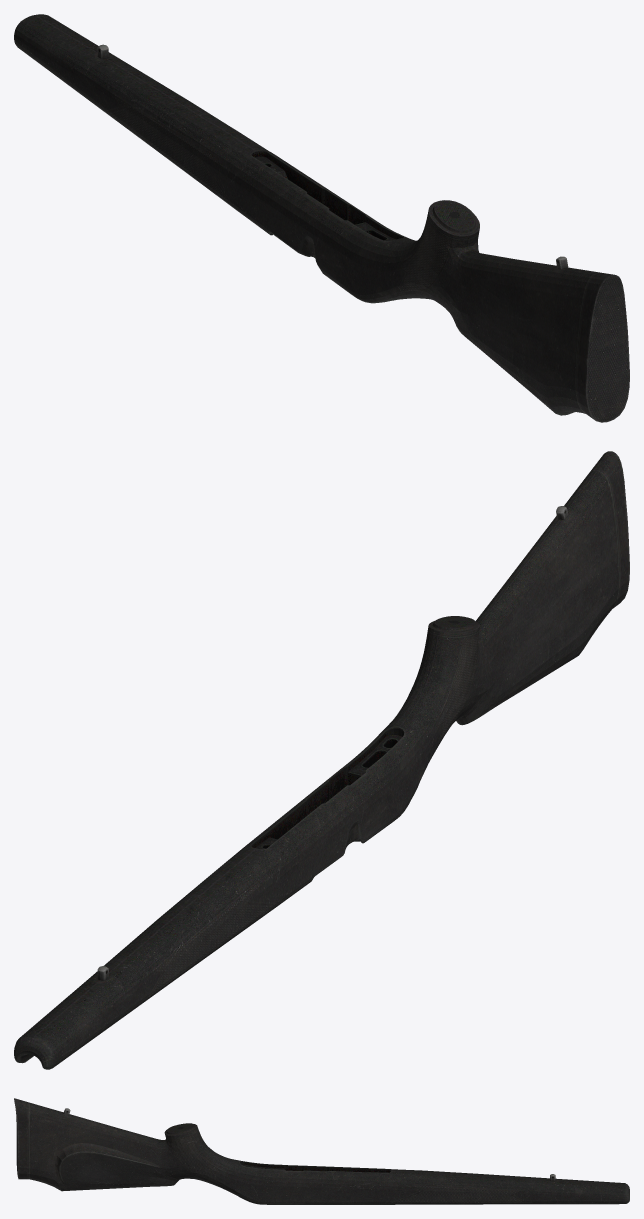
The picture shows the model from 3 angles, top to bottom: view 1: azimuth 30°, elevation 25°; view 2: azimuth 150°, elevation 25°; view 3: azimuth 270°, elevation 25°; orthographic projection. The views are drawn at different scales.
Visible parts, largest first — view 1: TW_5bbdb870d4351e00367fb67d_PZ_Import; view 2: TW_5bbdb870d4351e00367fb67d_PZ_Import; view 3: TW_5bbdb870d4351e00367fb67d_PZ_Import.
Boxes of the visible parts, x1,y1,x2,y2 form: TW_5bbdb870d4351e00367fb67d_PZ_Import: [14, 14, 629, 422]; TW_5bbdb870d4351e00367fb67d_PZ_Import: [14, 451, 629, 1069]; TW_5bbdb870d4351e00367fb67d_PZ_Import: [14, 1098, 629, 1204].
Size of the model in its own units: 0.0275 by 0.5032 by 0.0915.
Materials: 1 (1 with a texture image).
